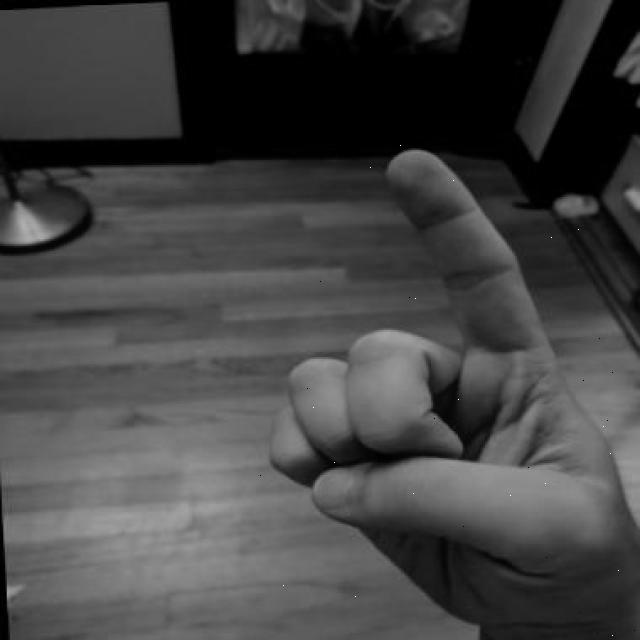D: (239, 133, 638, 638)
